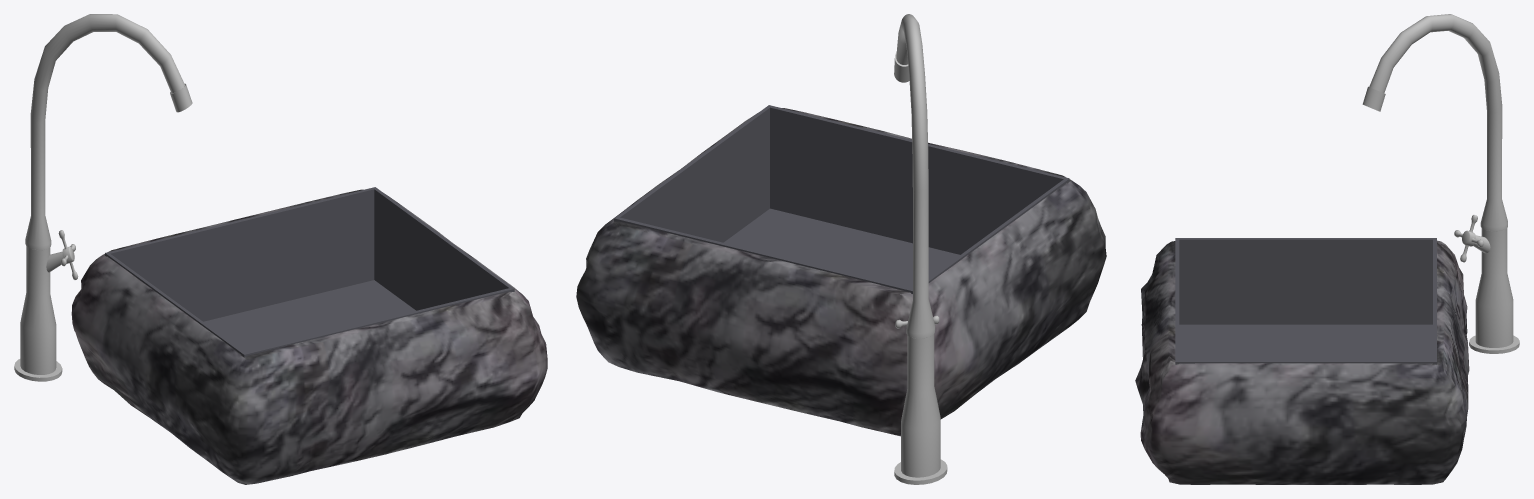
Rendered from sh-scopia-stone-washbasin.glb.
The picture shows the model from 3 angles, left to right: view 1: azimuth 30°, elevation 25°; view 2: azimuth 150°, elevation 25°; view 3: azimuth 270°, elevation 25°; orthographic projection. The views are drawn at different scales.
Visible parts, largest first — view 1: Rock, basin, Tap; view 2: Rock, basin, Tap; view 3: Rock, basin, Tap.
Boxes of the visible parts, x1,y1,x2,y2 form: Rock: (71,189,547,484); basin: (105,187,514,357); Tap: (14,14,192,381); Rock: (576,108,1106,436); basin: (614,105,1069,293); Tap: (894,14,947,484); Rock: (1135,240,1469,484); basin: (1175,238,1436,364); Tap: (1362,14,1519,353).
Size of the model in its own units: 1 by 1 by 1.
5 materials, 1 textured.
